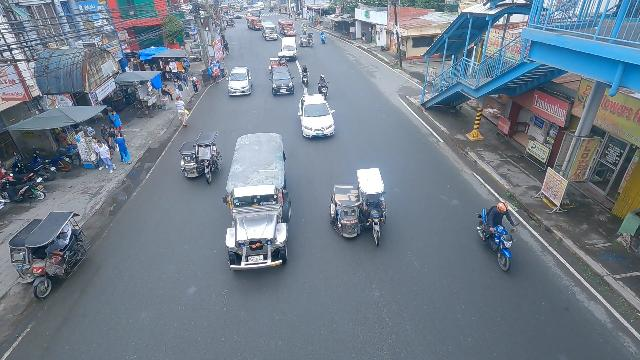car: (295, 94, 337, 139), (227, 66, 252, 97), (269, 66, 294, 97), (233, 12, 242, 19)
jeepney: (223, 132, 292, 271), (261, 21, 278, 41), (278, 19, 296, 35), (245, 16, 262, 31)
motorcycle: (477, 198, 519, 275), (316, 73, 329, 99), (299, 64, 311, 89), (320, 30, 326, 44), (301, 23, 307, 35)
van: (281, 36, 298, 62)
